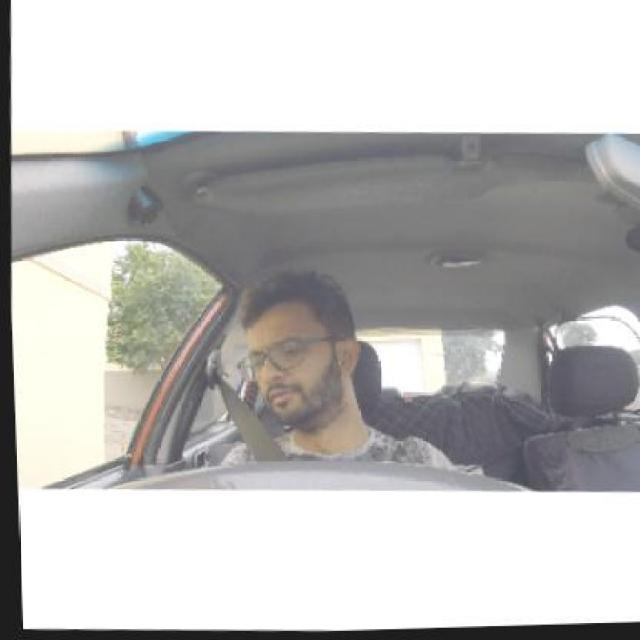drowsy: (237, 266, 371, 434)
